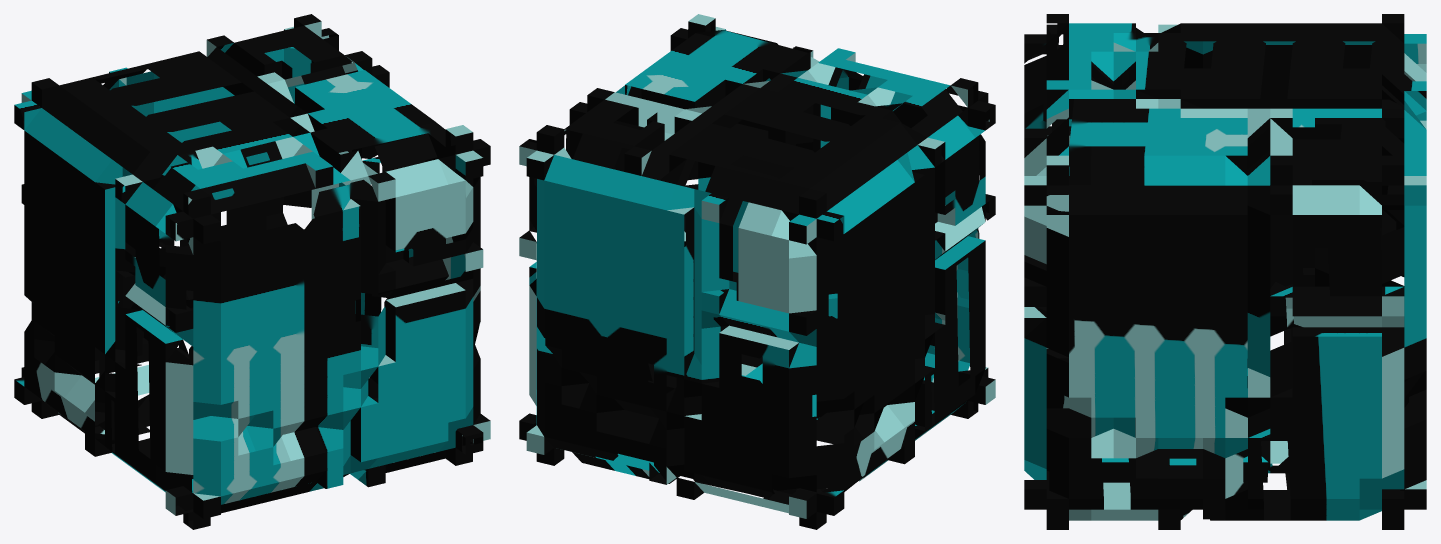
File: groundBlock.obj
3 renders of one model, left to right at view 1: azimuth 30°, elevation 25°; view 2: azimuth 150°, elevation 25°; view 3: azimuth 270°, elevation 25°, orthographic. The views are drawn at different scales.
Parts seen in each view (by area): view 1: Plane; view 2: Plane; view 3: Plane.
Boxes of the visible parts, x1=… form: Plane: x1=14, y1=14, x2=490, y2=529; Plane: x1=519, y1=14, x2=995, y2=529; Plane: x1=1024, y1=14, x2=1426, y2=529.
Bounding box in the file's own units: 2.25 × 2.25 × 2.25.
